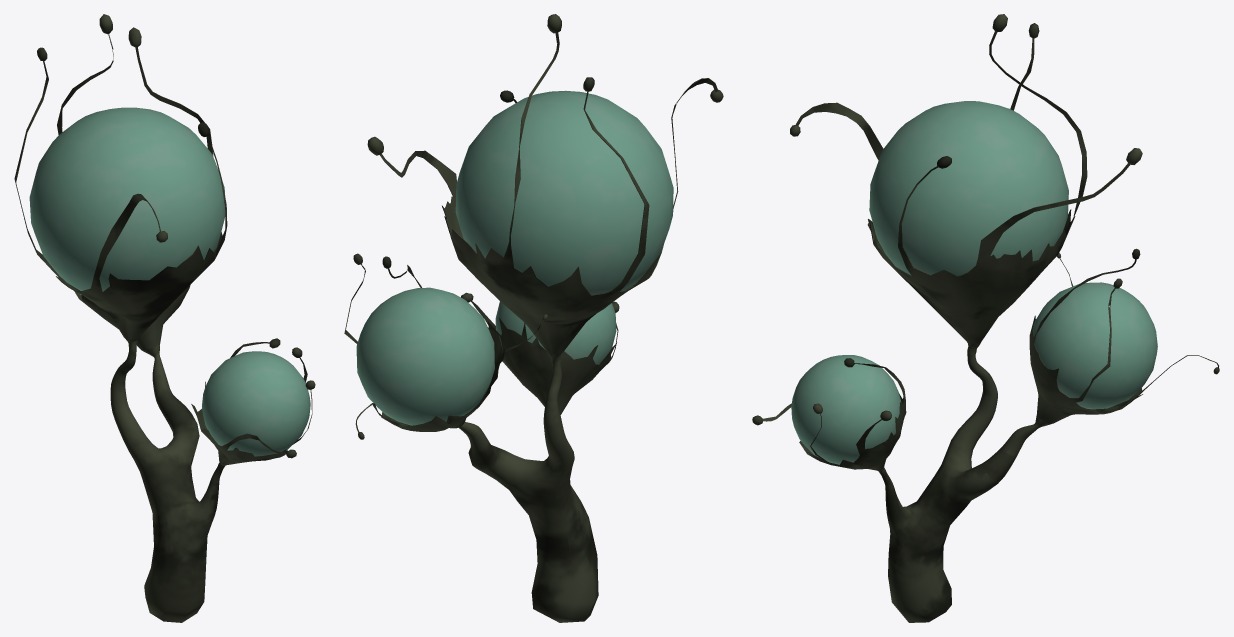
File: BubbleDead.fbx
The picture shows the model from 3 angles, left to right: view 1: azimuth 30°, elevation 25°; view 2: azimuth 150°, elevation 25°; view 3: azimuth 270°, elevation 25°; orthographic projection. The views are drawn at different scales.
Visible parts, largest first — view 1: Bubble; view 2: Bubble; view 3: Bubble.
Part boxes in pixels (left/top/right/bottom): Bubble: left=14, top=14, right=315, bottom=622; Bubble: left=344, top=14, right=723, bottom=622; Bubble: left=752, top=14, right=1219, bottom=622.
Size of the model in its own units: 257 by 628 by 451.
Materials: 1 (1 with a texture image).
